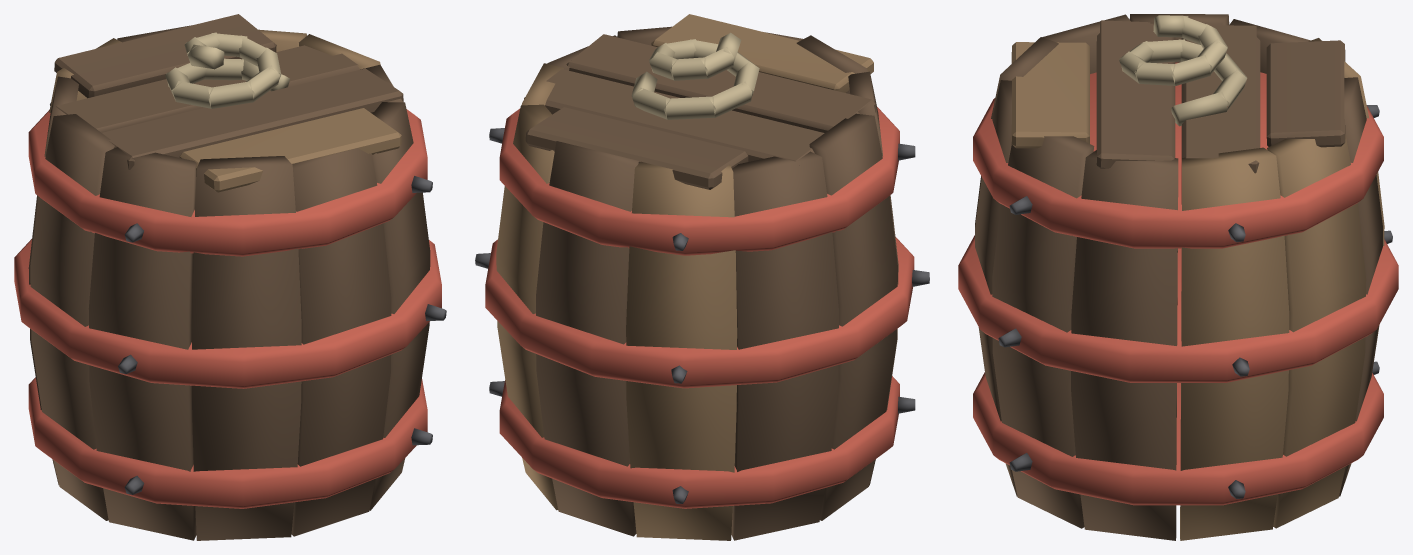
Rendered from keg.a06d2010.glb.
3 renders of one model, left to right at view 1: azimuth 30°, elevation 25°; view 2: azimuth 150°, elevation 25°; view 3: azimuth 270°, elevation 25°, orthographic.
Visible parts, largest first — view 1: keg; view 2: keg; view 3: keg.
Part boxes in pixels (box(x1,y1,x2,y2)): keg: box(14, 14, 446, 540); keg: box(475, 14, 929, 540); keg: box(958, 14, 1398, 540).
Size of the model in its own units: 0.8447 by 0.9327 by 0.8448.
